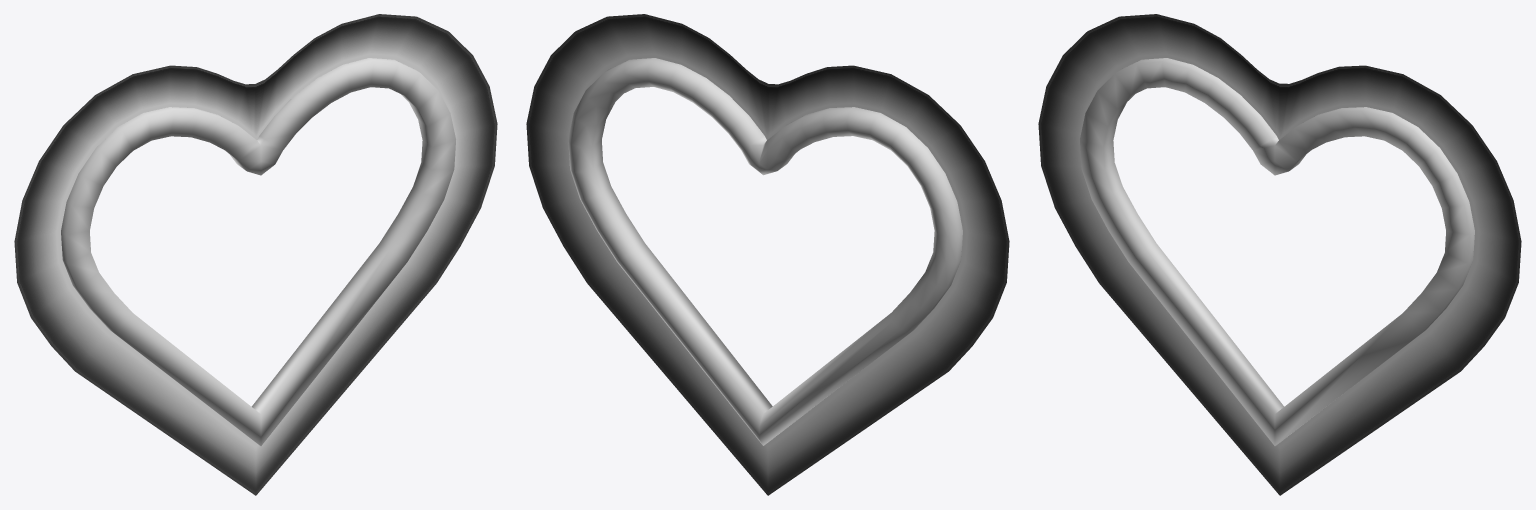
The model's file is Heart.fbx.
3 renders of one model, left to right at view 1: azimuth 30°, elevation 25°; view 2: azimuth 150°, elevation 25°; view 3: azimuth 330°, elevation 25°, orthographic.
Parts seen in each view (by area): view 1: Heart; view 2: Heart; view 3: Heart.
Part boxes in pixels (x1,y1,x2,y2): Heart: (14, 14, 497, 495); Heart: (526, 14, 1009, 495); Heart: (1038, 14, 1521, 495).
Bounding box in the file's own units: 0.6865 × 0.6136 × 0.0339.
